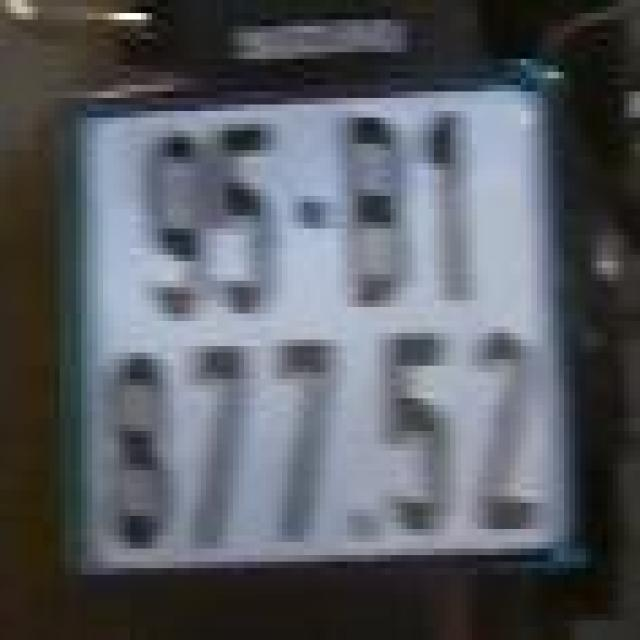1: (420, 108, 480, 304)
2: (466, 323, 548, 539)
5: (380, 327, 456, 536), (217, 124, 282, 320)
7: (266, 333, 342, 542), (187, 340, 252, 548)
8: (100, 346, 176, 549)
9: (138, 131, 214, 320)
B: (339, 111, 409, 313)
